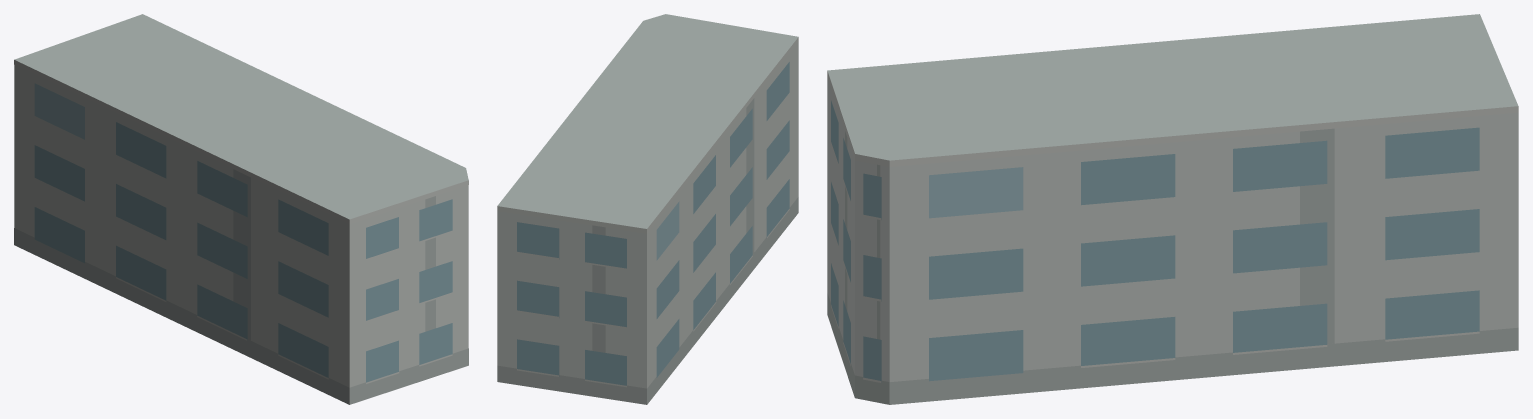
The model's file is survey-upis-32771465.glb.
The picture shows the model from 3 angles, left to right: view 1: azimuth 30°, elevation 25°; view 2: azimuth 150°, elevation 25°; view 3: azimuth 270°, elevation 25°; orthographic projection. The views are drawn at different scales.
Visible parts, largest first — view 1: survey-upis-32771465.tmp; view 2: survey-upis-32771465.tmp; view 3: survey-upis-32771465.tmp.
Boxes of the visible parts, box(x1,y1,x2,y2) form: survey-upis-32771465.tmp: box(14, 14, 468, 404); survey-upis-32771465.tmp: box(497, 14, 798, 404); survey-upis-32771465.tmp: box(827, 14, 1518, 404).
Bounding box in the file's own units: 11.78 × 9.15 × 23.47.
